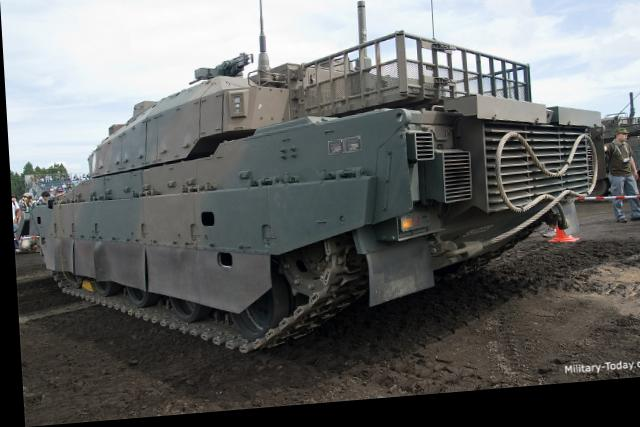tank: (28, 36, 605, 336)
